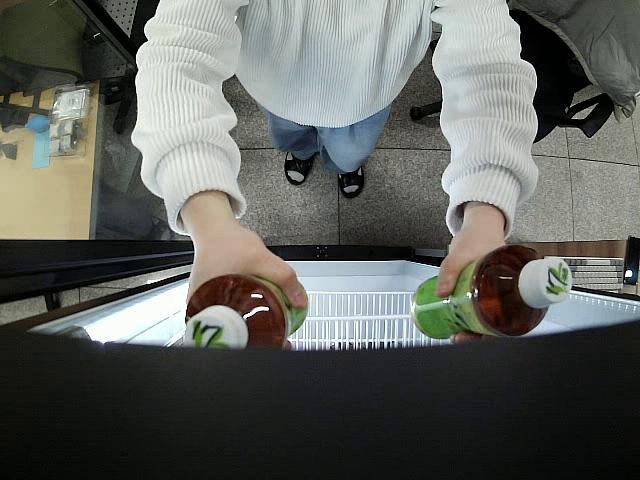00_hand: (182, 236, 309, 314), (439, 240, 515, 349)
19_17cha: (408, 247, 576, 340), (183, 277, 308, 354)
